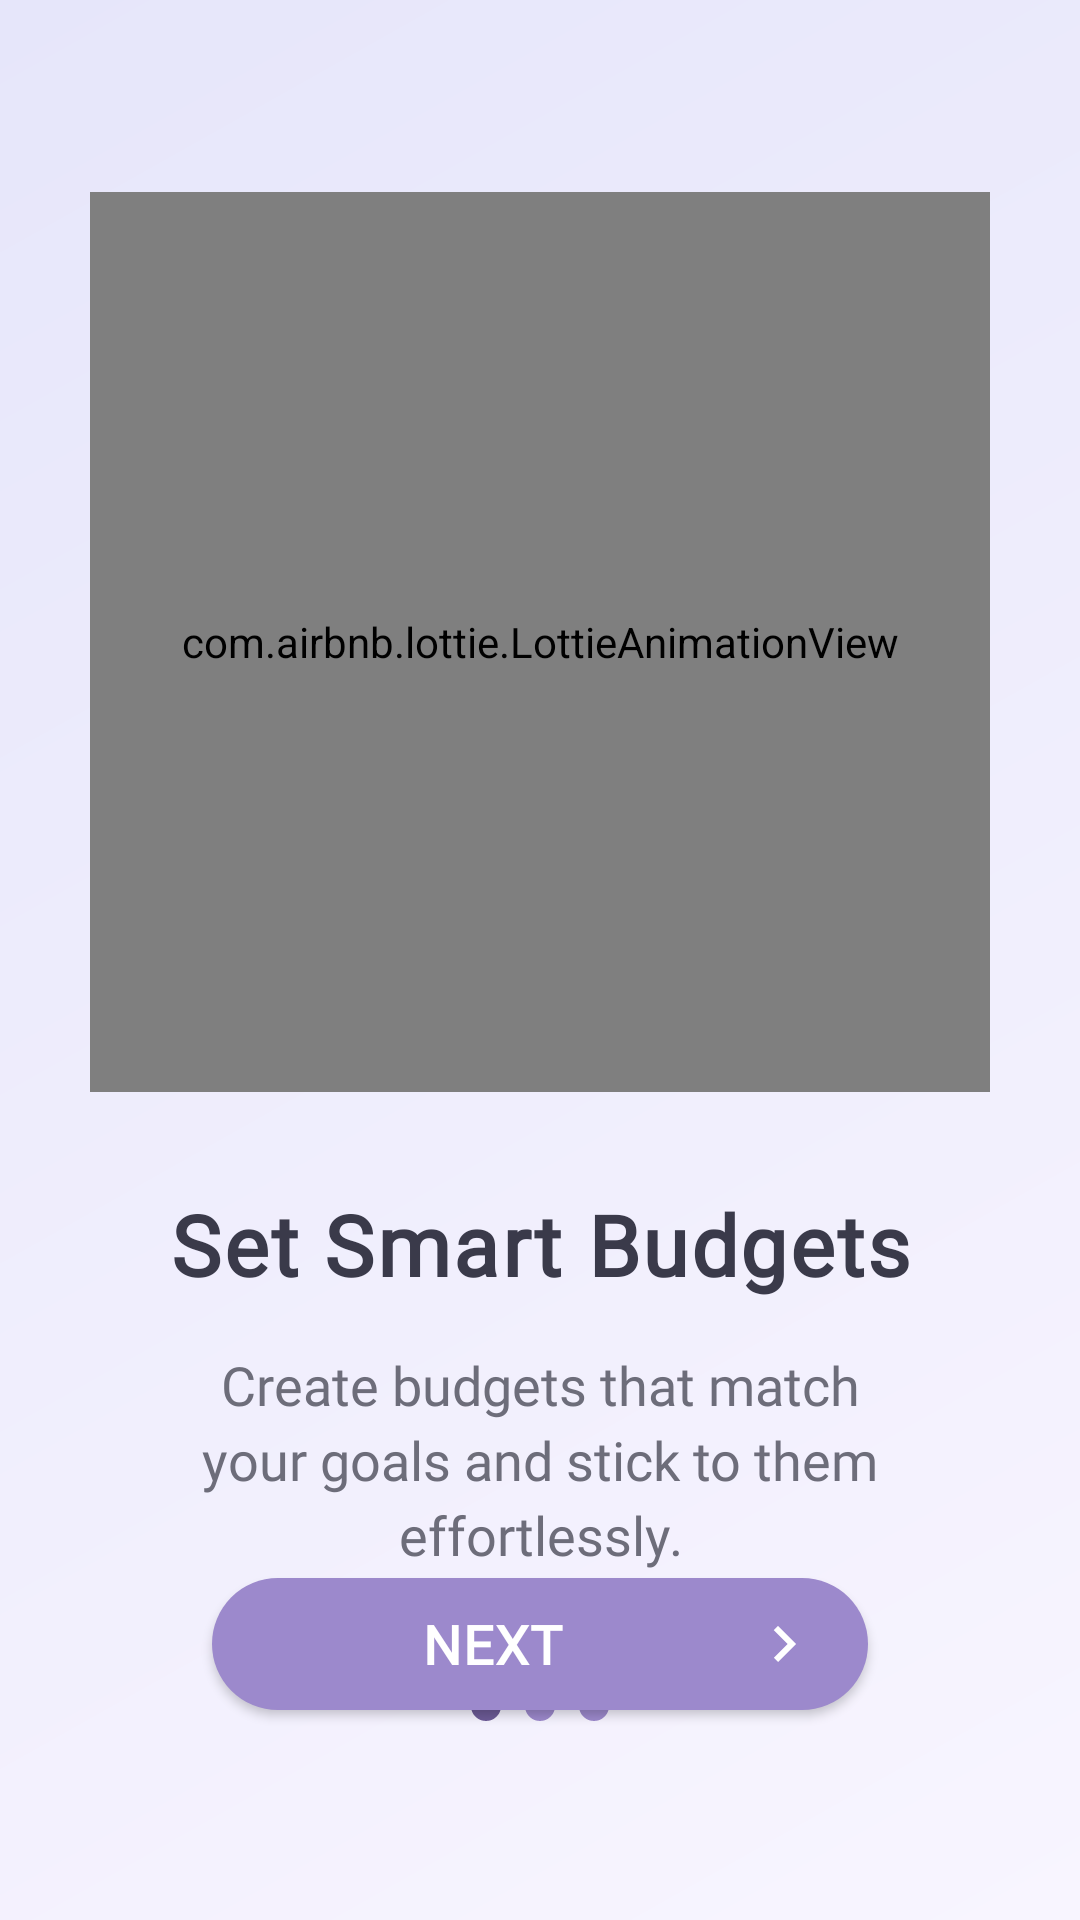

Point at icon controls on the screen. Image size 1080 × 1920, points as (x,y).
dot indicator: (486,1706), (540,1706), (594,1706)
